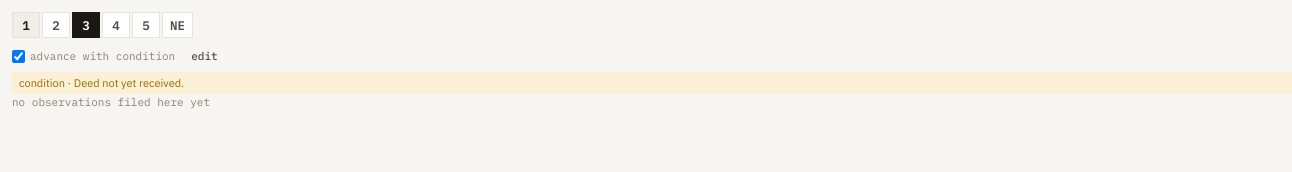
Test case: ScoreControl › stops showing the condition after the score is cleared
Expected: the text "condition · Deed not yet received." is shown, [12,72,1291,94]
Step 1. Click the button "3" → (86, 25), box [72,12,100,38]
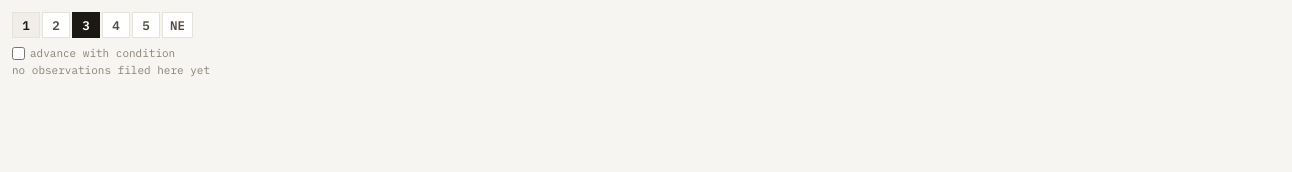
Now the text "Deed not yet received" is gone
